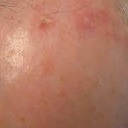Actinic: (33, 13, 57, 35)
